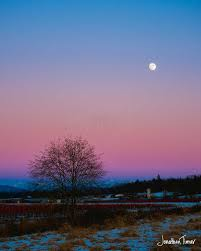moon: (148, 62, 157, 72)
